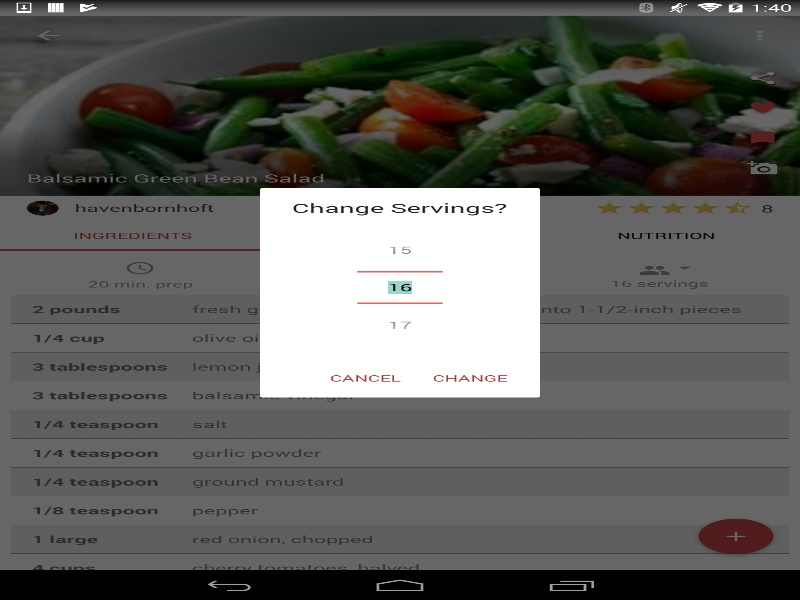Button: (416, 361, 524, 395), (357, 231, 442, 272), (357, 302, 442, 343), (314, 361, 416, 395)
Input: (357, 272, 442, 302)
